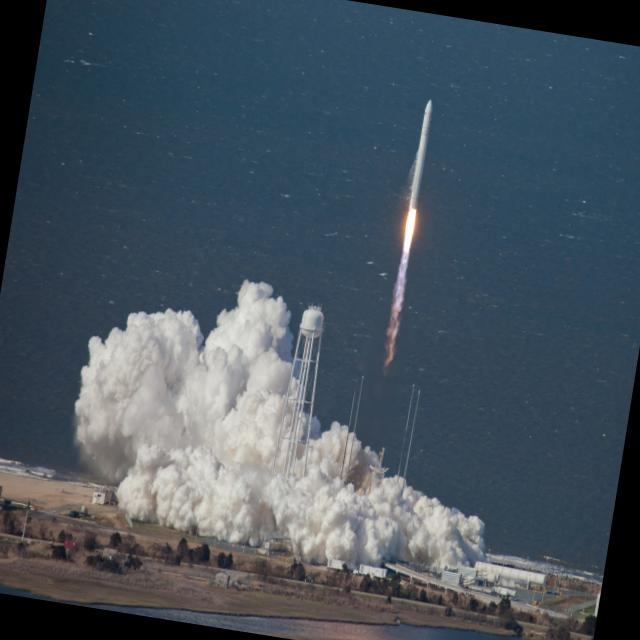rocket: (384, 90, 444, 327)
